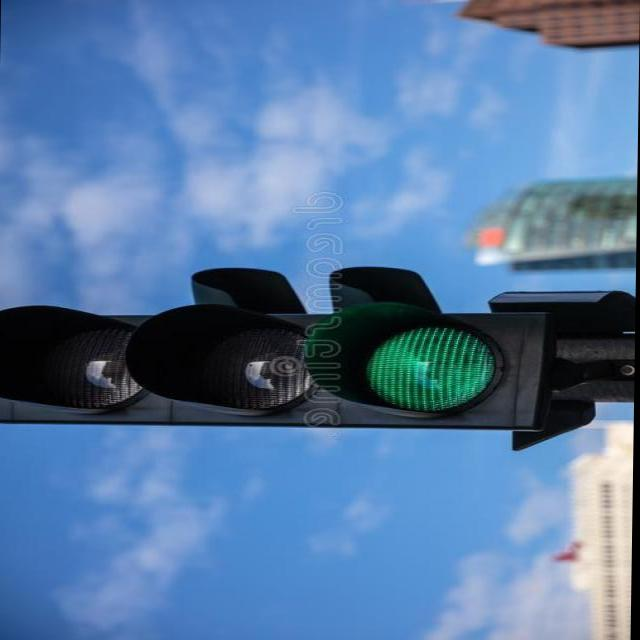green light: (0, 299, 546, 428)
